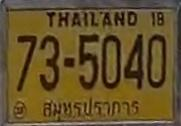0: (146, 33, 166, 87), (101, 34, 120, 88)
3: (38, 34, 60, 90)
4: (123, 33, 143, 88)
5: (78, 33, 98, 89)
7: (16, 34, 36, 90)
SPK: (39, 95, 141, 121)
